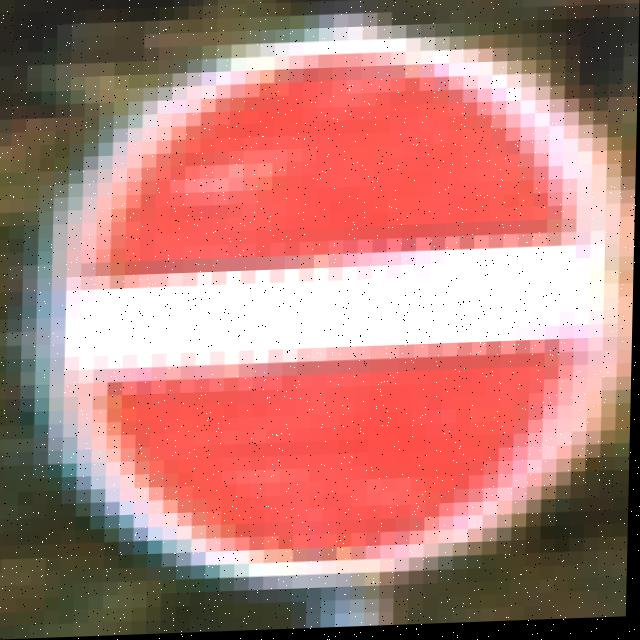road_rough: (17, 28, 636, 598)
